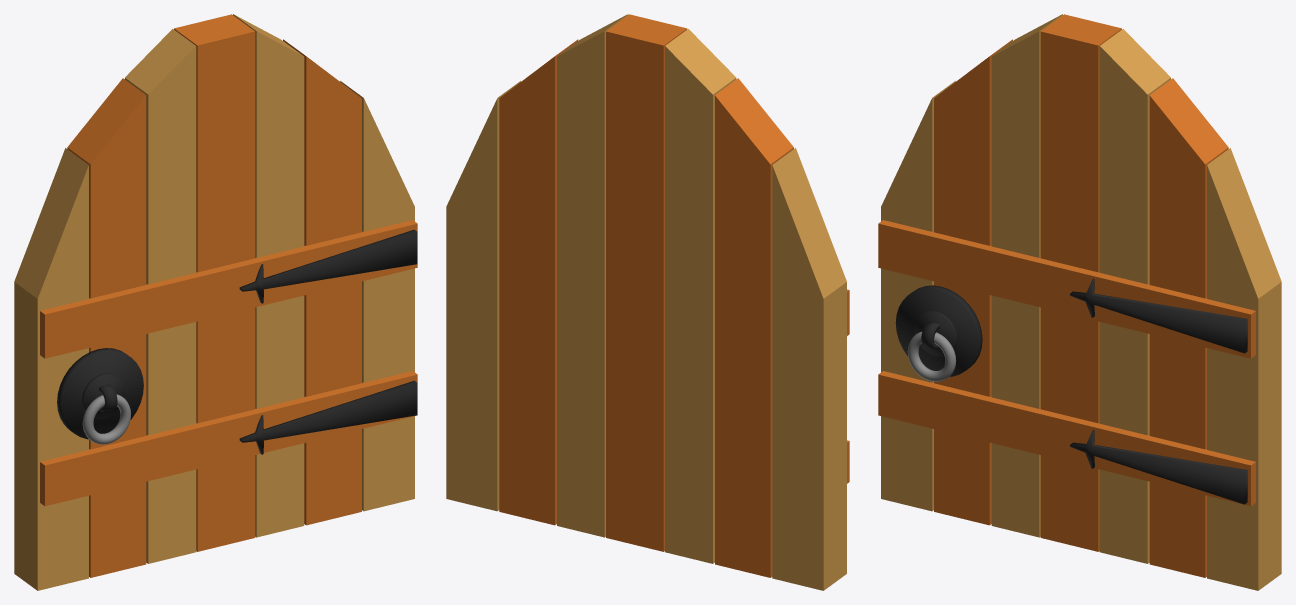
Rendered from door.fbx.
3 renders of one model, left to right at view 1: azimuth 30°, elevation 25°; view 2: azimuth 150°, elevation 25°; view 3: azimuth 330°, elevation 25°, orthographic.
Visible parts, largest first — view 1: Cube; view 2: Cube; view 3: Cube.
Part boxes in pixels (bbox=[...]): Cube: bbox=[14, 14, 417, 590]; Cube: bbox=[446, 14, 849, 590]; Cube: bbox=[878, 14, 1281, 590].
Size of the model in its own units: 780 by 1000 by 136.
